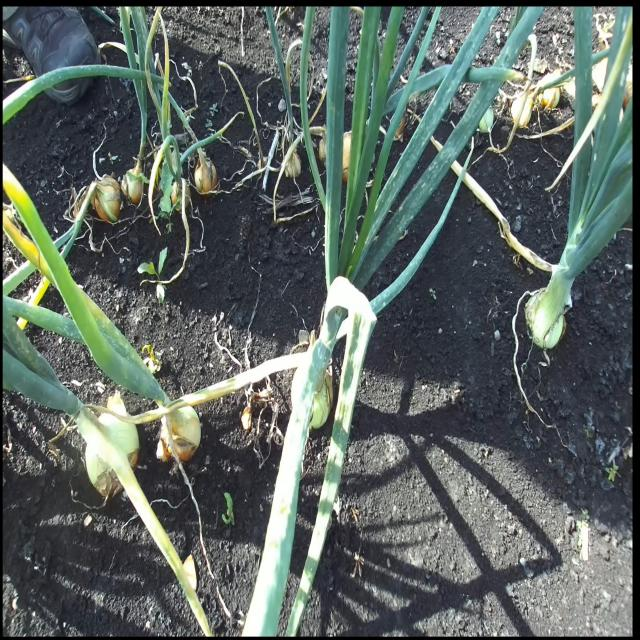onion: (77, 406, 140, 500), (157, 402, 201, 464), (308, 368, 334, 431), (91, 173, 122, 224), (120, 157, 148, 206), (194, 148, 217, 195)
